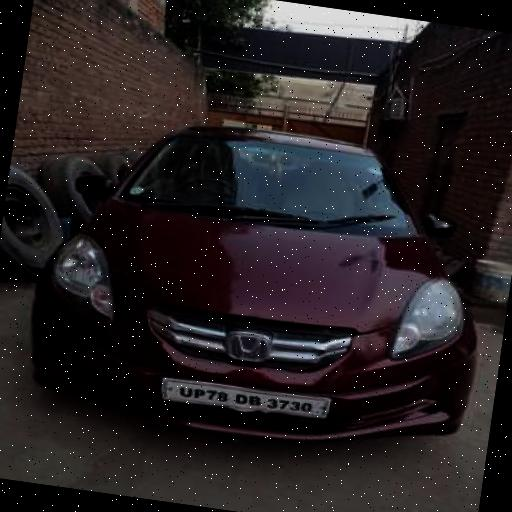license_plate`: (164, 378, 325, 418)
